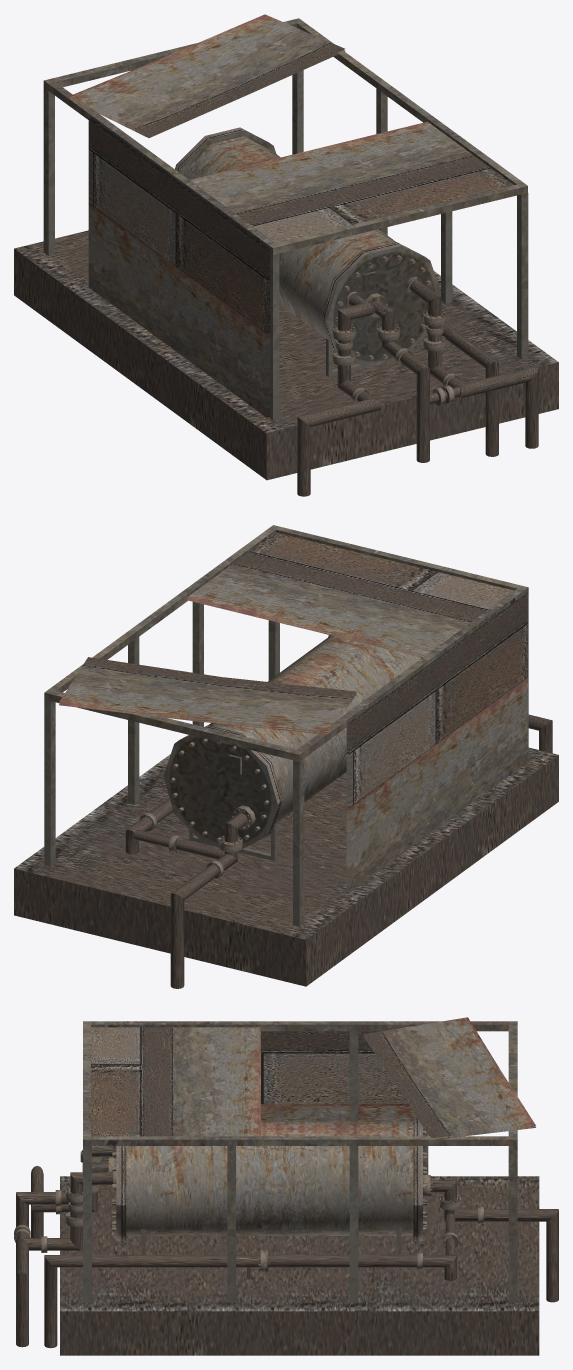
Rendered from O_TankA.glb.
3 views of the same model, one above another, from view 1: azimuth 30°, elevation 25°; view 2: azimuth 150°, elevation 25°; view 3: azimuth 270°, elevation 25° (orthographic). The views are drawn at different scales.
Visible parts, largest first — view 1: _O_TankA; view 2: _O_TankA; view 3: _O_TankA.
Boxes of the visible parts, <box> form: _O_TankA: <box>14,14,558,496</box>; _O_TankA: <box>14,525,558,988</box>; _O_TankA: <box>14,1017,558,1355</box>.
Bounding box in the file's own units: 8.01 × 6.46 × 13.65.
7 materials, 7 textured.
